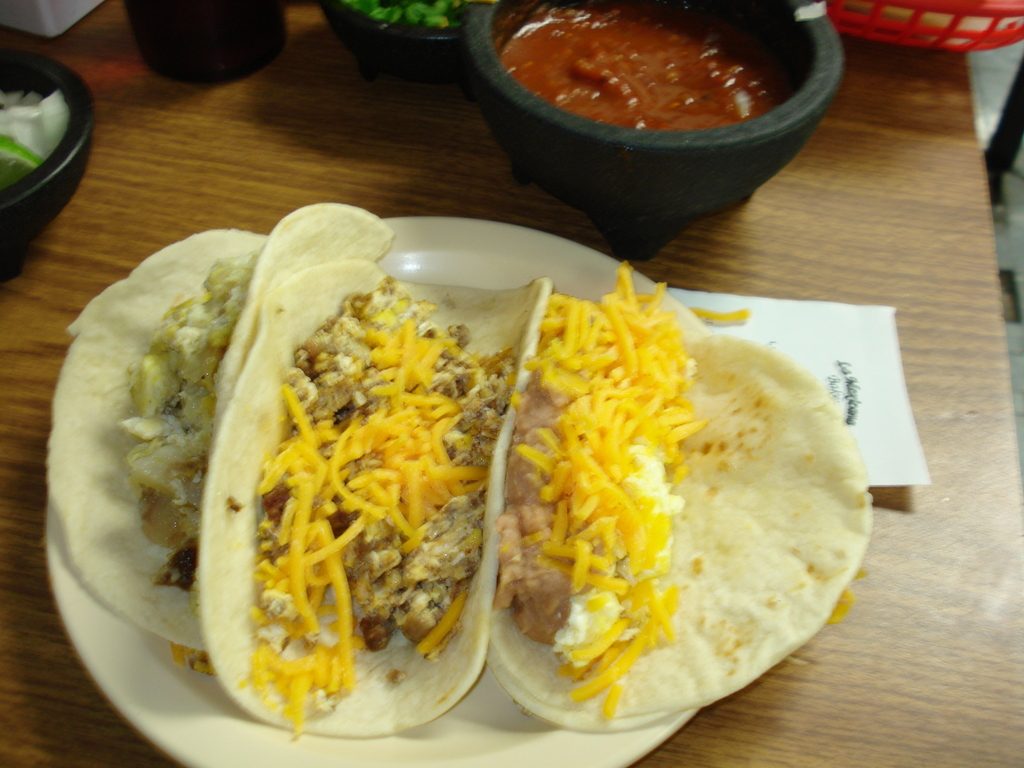taco: (465, 301, 880, 724), (195, 258, 552, 741), (40, 202, 396, 657)
